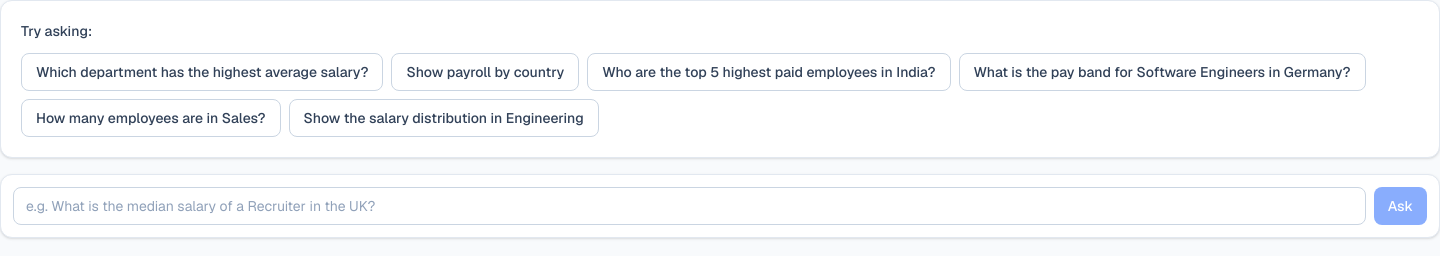
Test: AI assistant › shows errors inline and keeps the input usable
Step 1. Type "something long" into the field named "Ask a question" → [689, 206], box [13,187,1366,225]
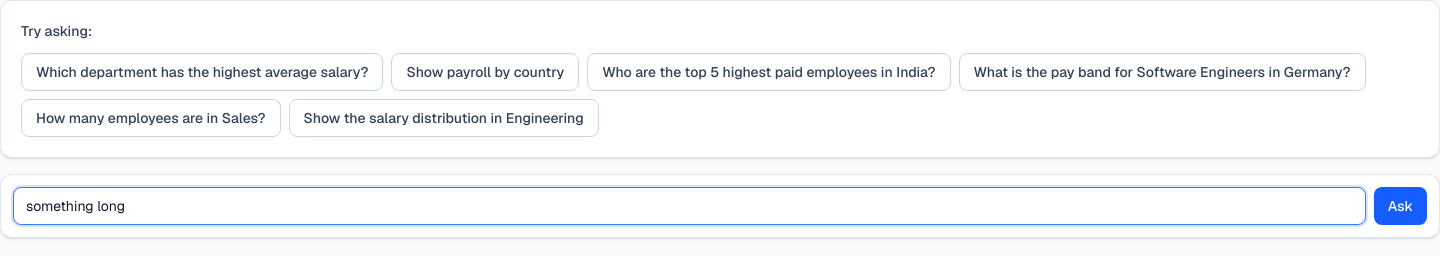
Step 2. Click the button "Ask" → [1400, 206], box [1374,187,1427,225]
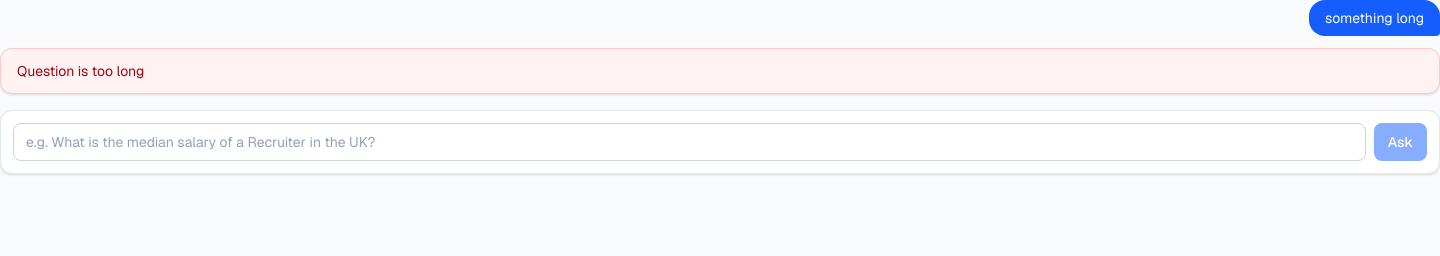
Result: the message reads "Question is too long" at [17,62,144,80]
Result: the field named "Ask a question" is empty at [13,123,1366,161]
